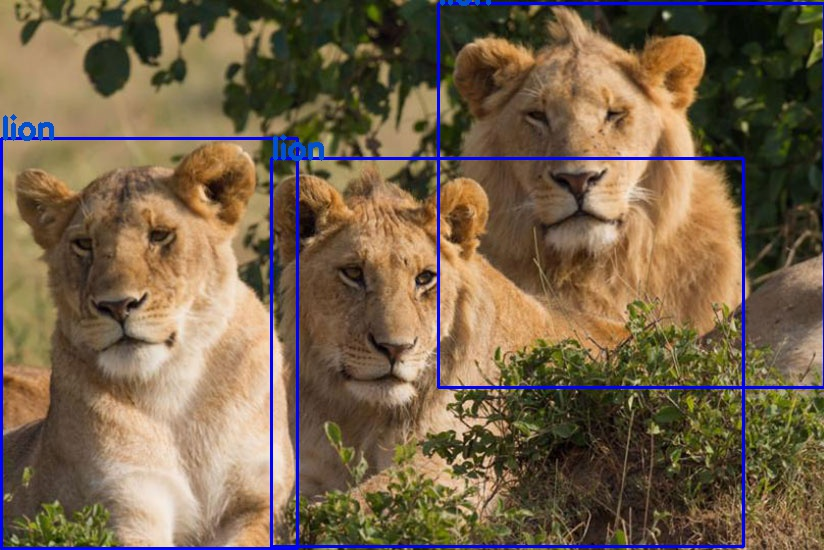lion: (270, 157, 742, 546), (438, 2, 824, 386), (0, 137, 296, 547)
